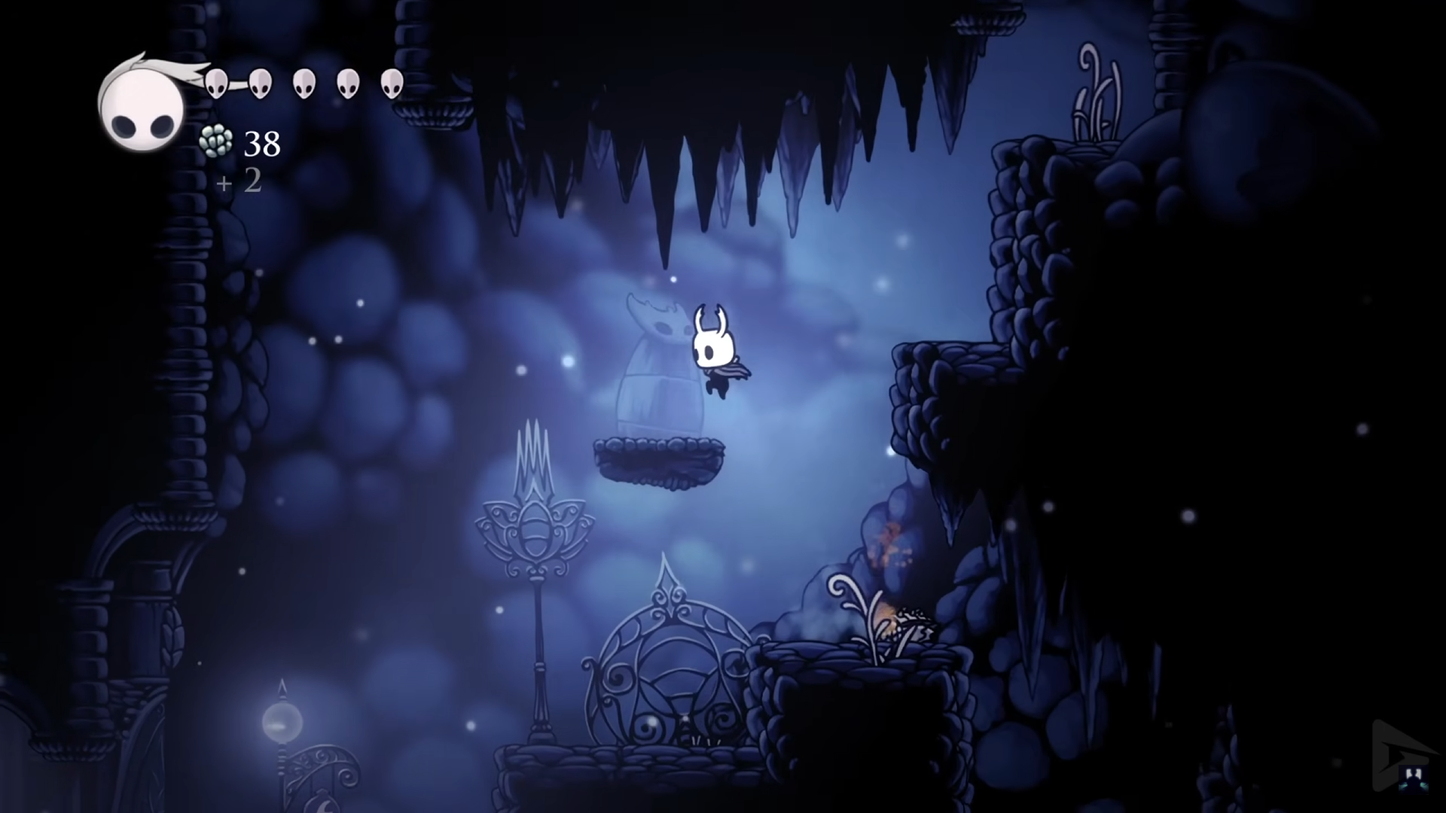HK: (684, 302, 749, 403)
